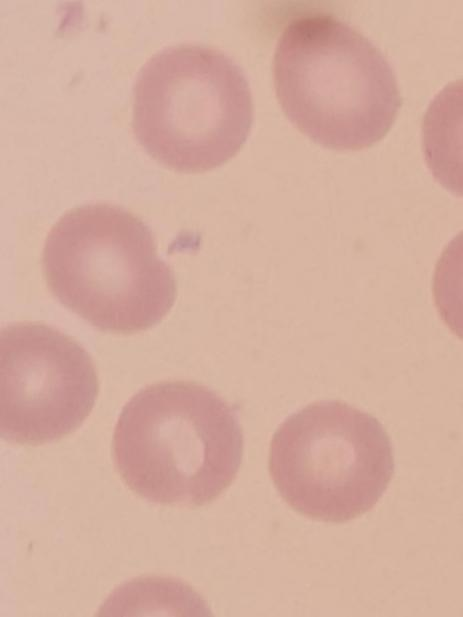Uninfected: (35, 199, 173, 334), (272, 21, 397, 155), (117, 379, 238, 509), (133, 46, 256, 173), (268, 401, 394, 519), (0, 316, 96, 443)
